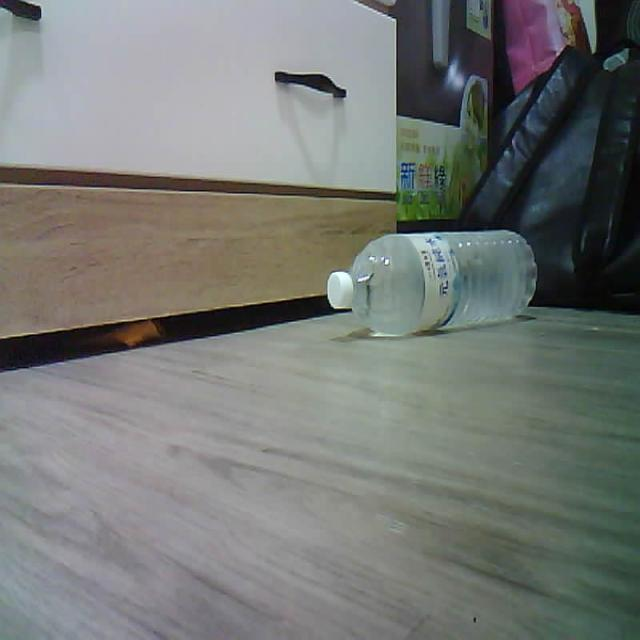bottle: (327, 230, 537, 335)
